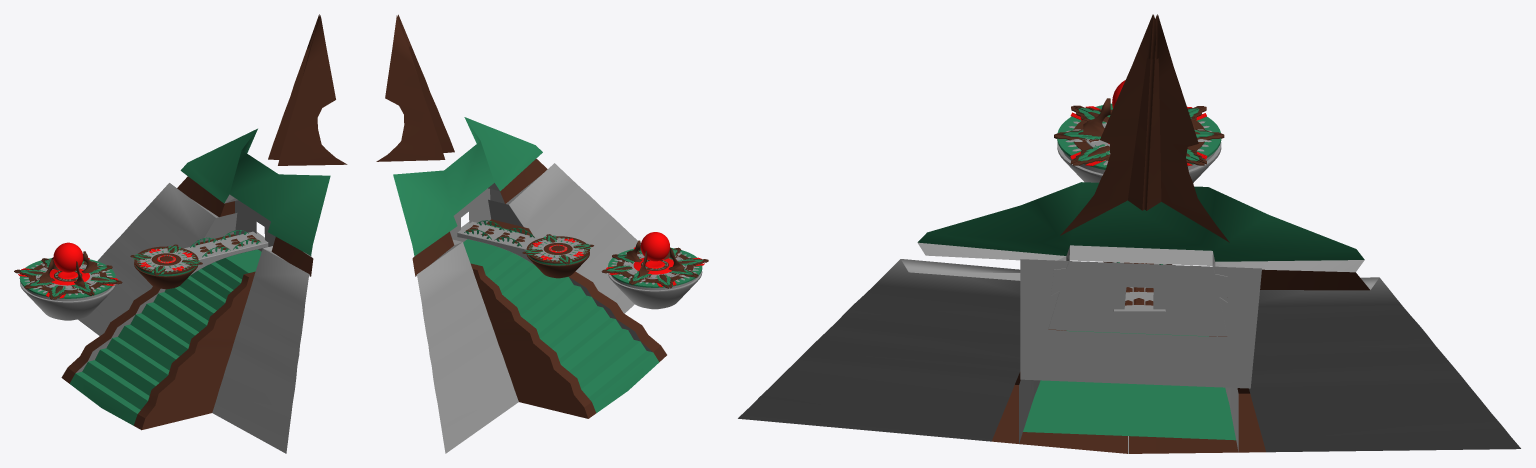
Rendered from level02_floor04.FBX.
3 renders of one model, left to right at view 1: azimuth 30°, elevation 25°; view 2: azimuth 150°, elevation 25°; view 3: azimuth 270°, elevation 25°, orthographic. The views are drawn at different scales.
Visible parts, largest first — view 1: floor04_temple, floor04_part2, floor04_part1, floor04_part3; view 2: floor04_temple, floor04_part2, floor04_part1, floor04_part3; view 3: floor04_temple, floor04_part2, floor04_part3.
Boxes of the visible parts, left/top/right/bottom form: floor04_temple: left=61, top=14, right=347, bottom=453; floor04_part2: left=14, top=242, right=122, bottom=320; floor04_part1: left=130, top=244, right=202, bottom=289; floor04_part3: left=184, top=230, right=268, bottom=275; floor04_temple: left=376, top=14, right=666, bottom=453; floor04_part2: left=601, top=232, right=708, bottom=309; floor04_part1: left=522, top=234, right=593, bottom=278; floor04_part3: left=457, top=220, right=540, bottom=264; floor04_temple: left=738, top=14, right=1520, bottom=453; floor04_part2: left=1054, top=80, right=1224, bottom=182; floor04_part3: left=1113, top=262, right=1165, bottom=319.
Size of what is drawn, in the model's own units: 3478 by 3686 by 4596.
